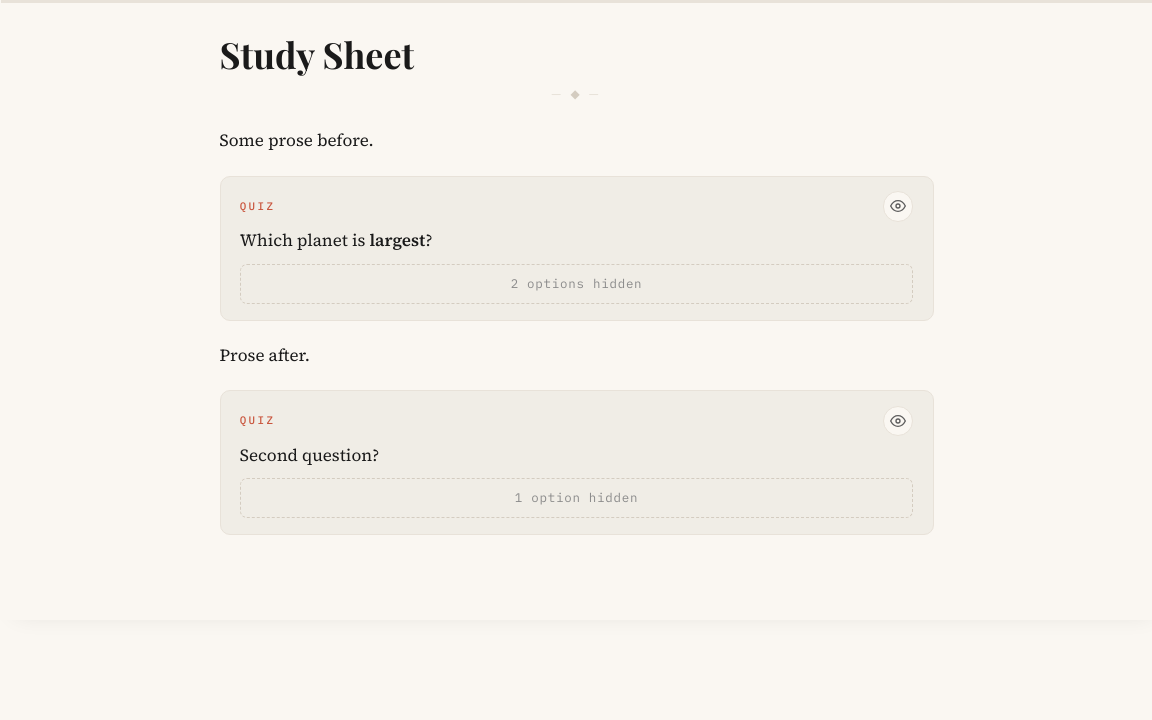
Scenario: quiz rendering › keeps several quizzes independent
Check: the text "Second question?" is shown, box [240,443,379,467]
Check: the element with class "markdown-body" is shown, box [188,3,966,620]
Click the 2nd button named "Reveal options".
click(898, 421)  # box [883,406,913,436]
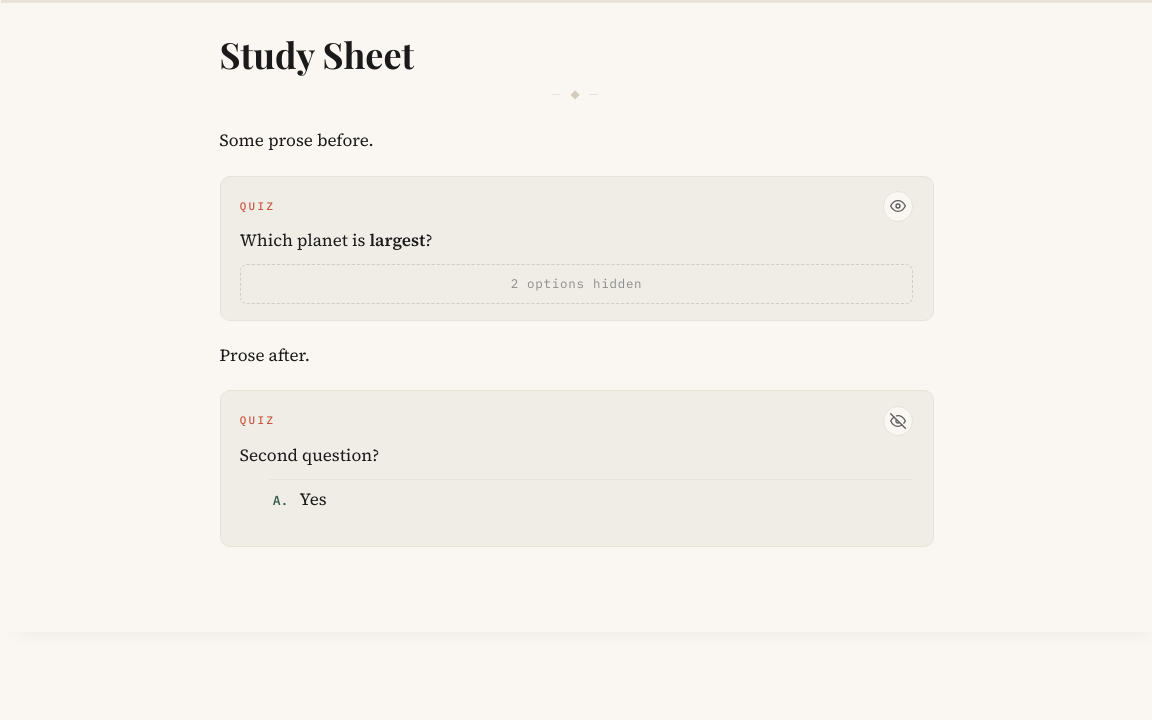
Check: the element with class "markdown-body" is shown, box [188,3,966,632]
Check: the list item "Yes" is shown, box [269,479,913,520]
